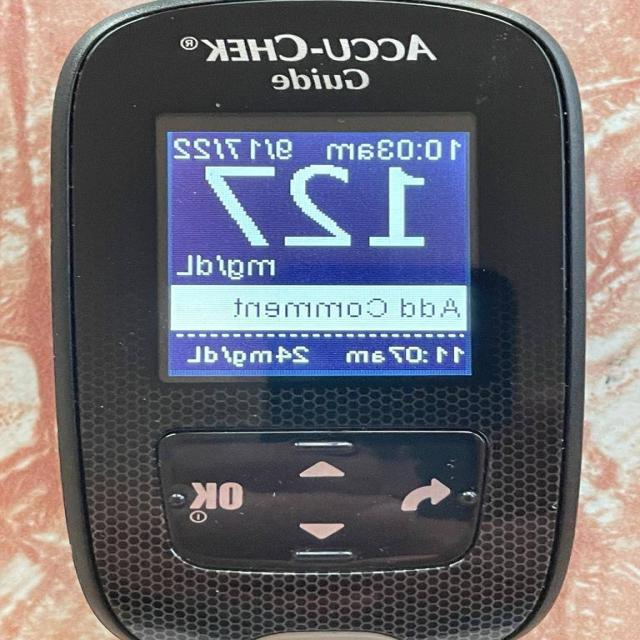gluco: (52, 0, 588, 639)
